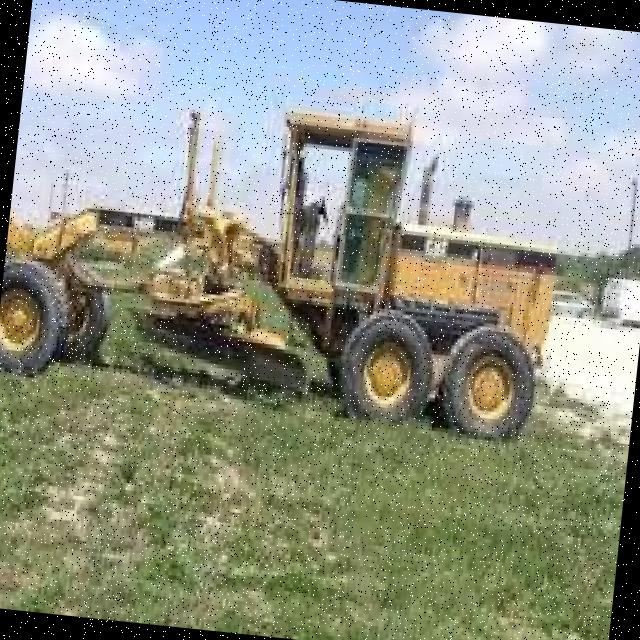Grader: (0, 62, 581, 482)
